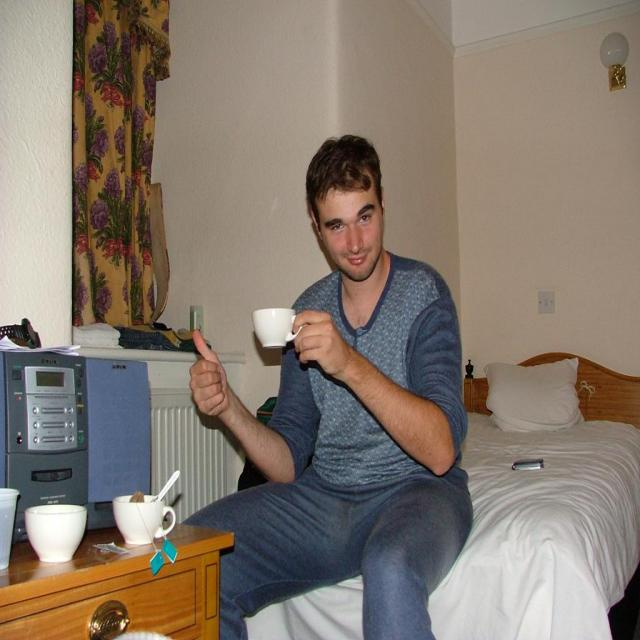desk: (0, 528, 219, 636)
person: (184, 134, 470, 640)
